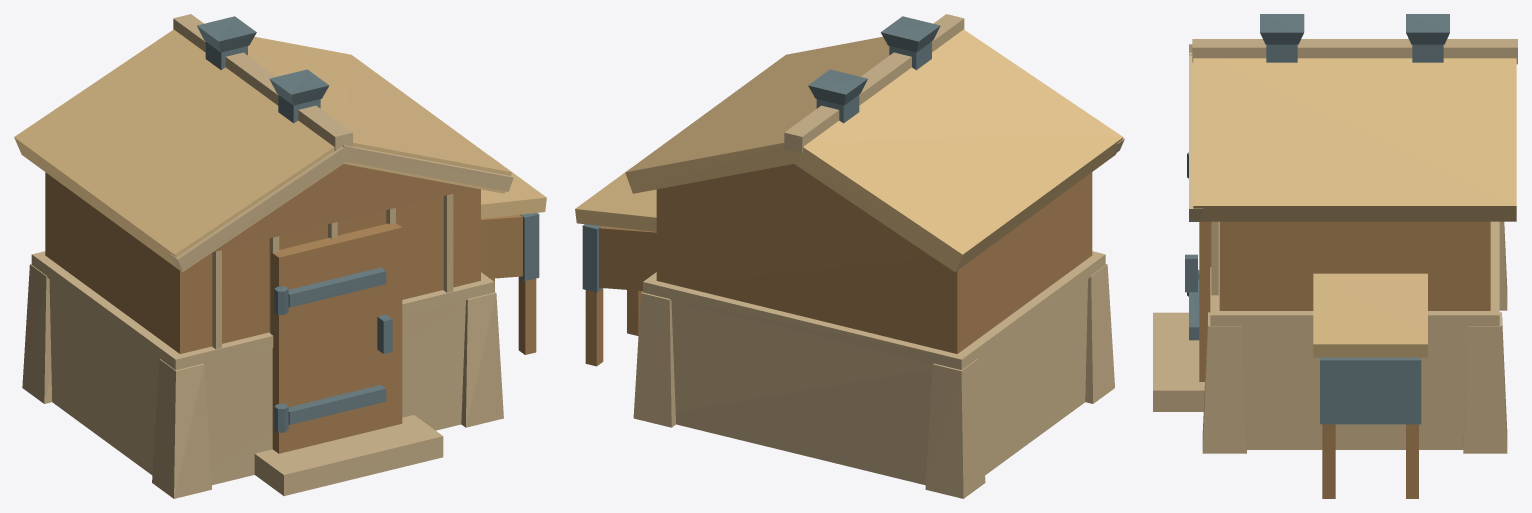
The model's file is ice-house.source.glb.
The picture shows the model from 3 angles, left to right: view 1: azimuth 30°, elevation 25°; view 2: azimuth 150°, elevation 25°; view 3: azimuth 270°, elevation 25°; orthographic projection.
Visible parts, largest first — view 1: ice-house-left-earth-roof-panel-mesh, ice-house-stone-wall-block-mesh, ice-house-upper-shell-block-mesh, ice-house-door-leaf-mesh, ice-house-right-earth-roof-panel-mesh, ice-house-threshold-stone-mesh, ice-house-front-gable-mesh, ice-house-front-left-stone-corner-mesh, ice-house-insulation-belt-mesh, ice-house-front-right-stone-corner-mesh, ice-house-roof-ridge-mesh, ice-house-left-roof-fascia-mesh (+13 smaller); view 2: ice-house-stone-wall-block-mesh, ice-house-left-earth-roof-panel-mesh, ice-house-upper-shell-block-mesh, ice-house-right-earth-roof-panel-mesh, ice-house-insulation-belt-mesh, ice-house-rear-gable-mesh, ice-house-rear-left-stone-corner-mesh, ice-house-rear-right-stone-corner-mesh, ice-house-roof-ridge-mesh, ice-house-loading-chute-body-mesh, ice-house-front-left-stone-corner-mesh, ice-house-loading-chute-cover-mesh (+5 smaller); view 3: ice-house-right-earth-roof-panel-mesh, ice-house-upper-shell-block-mesh, ice-house-stone-wall-block-mesh, ice-house-loading-chute-cover-mesh, ice-house-loading-chute-mouth-mesh, ice-house-roof-ridge-mesh, ice-house-rear-right-stone-corner-mesh, ice-house-front-right-stone-corner-mesh, ice-house-threshold-stone-mesh, ice-house-insulation-belt-mesh, ice-house-door-leaf-mesh, ice-house-roof-vent-1-cap-mesh (+10 smaller).
Boxes of the visible parts, x1,y1,x2,y2 form: ice-house-left-earth-roof-panel-mesh: (14, 29, 345, 272); ice-house-stone-wall-block-mesh: (49, 279, 465, 485); ice-house-upper-shell-block-mesh: (45, 172, 480, 353); ice-house-door-leaf-mesh: (271, 223, 402, 453); ice-house-right-earth-roof-panel-mesh: (248, 36, 511, 193); ice-house-threshold-stone-mesh: (254, 415, 443, 495); ice-house-front-gable-mesh: (212, 164, 474, 252); ice-house-front-left-stone-corner-mesh: (152, 359, 211, 498); ice-house-insulation-belt-mesh: (31, 251, 494, 369); ice-house-front-right-stone-corner-mesh: (461, 292, 503, 427); ice-house-roof-ridge-mesh: (173, 14, 352, 150); ice-house-left-roof-fascia-mesh: (170, 144, 351, 271); ice-house-stone-wall-block-mesh: (671, 279, 1087, 485); ice-house-left-earth-roof-panel-mesh: (787, 29, 1123, 271); ice-house-upper-shell-block-mesh: (656, 172, 1092, 353); ice-house-right-earth-roof-panel-mesh: (625, 36, 889, 193); ice-house-insulation-belt-mesh: (643, 251, 1105, 370); ice-house-rear-gable-mesh: (663, 164, 924, 252); ice-house-rear-left-stone-corner-mesh: (925, 359, 985, 498); ice-house-rear-right-stone-corner-mesh: (633, 292, 675, 427); ice-house-roof-ridge-mesh: (784, 14, 964, 153); ice-house-loading-chute-body-mesh: (599, 226, 656, 290); ice-house-front-left-stone-corner-mesh: (1085, 264, 1114, 403); ice-house-loading-chute-cover-mesh: (575, 168, 656, 231); ice-house-right-earth-roof-panel-mesh: (1193, 58, 1516, 221); ice-house-upper-shell-block-mesh: (1219, 221, 1490, 310); ice-house-stone-wall-block-mesh: (1241, 327, 1468, 449); ice-house-loading-chute-cover-mesh: (1313, 273, 1427, 357); ice-house-loading-chute-mouth-mesh: (1320, 357, 1421, 424); ice-house-roof-ridge-mesh: (1192, 39, 1517, 64); ice-house-rear-right-stone-corner-mesh: (1463, 312, 1507, 453); ice-house-front-right-stone-corner-mesh: (1202, 312, 1246, 453); ice-house-threshold-stone-mesh: (1153, 312, 1204, 411); ice-house-insulation-belt-mesh: (1210, 221, 1499, 326); ice-house-door-leaf-mesh: (1199, 221, 1211, 381); ice-house-roof-vent-1-cap-mesh: (1260, 14, 1304, 44).
Bounding box in the file's own units: 3.85 × 2.96 × 2.8.
